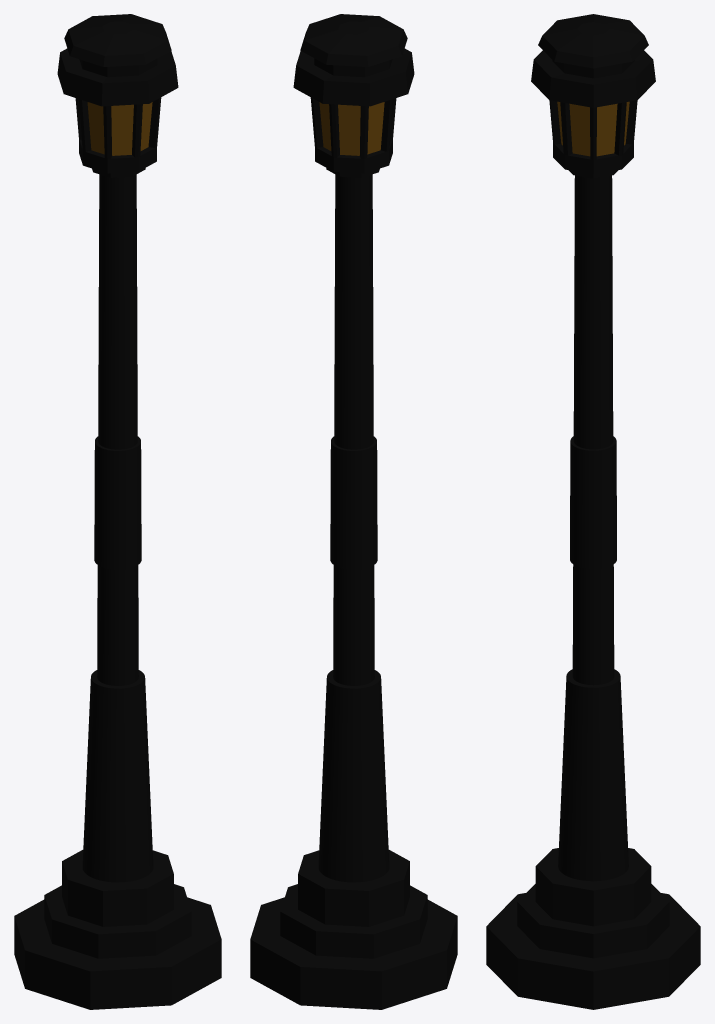
The model's file is lamppost .obj.
The picture shows the model from 3 angles, left to right: view 1: azimuth 30°, elevation 25°; view 2: azimuth 150°, elevation 25°; view 3: azimuth 270°, elevation 25°; orthographic projection.
Parts seen in each view (by area): view 1: Cylinder.001, Cylinder, Cylinder.002; view 2: Cylinder.001, Cylinder, Cylinder.002; view 3: Cylinder.001, Cylinder, Cylinder.002.
Boxes of the visible parts, x1,y1,x2,y2 form: Cylinder.001: (82,174,153,882); Cylinder: (14,850,221,1009); Cylinder.002: (57,14,178,177); Cylinder.001: (318,174,389,882); Cylinder: (250,850,457,1009); Cylinder.002: (293,14,414,177); Cylinder.001: (558,175,628,881); Cylinder: (486,848,700,1009); Cylinder.002: (531,14,655,178).
Size of the model in its own units: 1.6 by 7.7 by 1.6.
